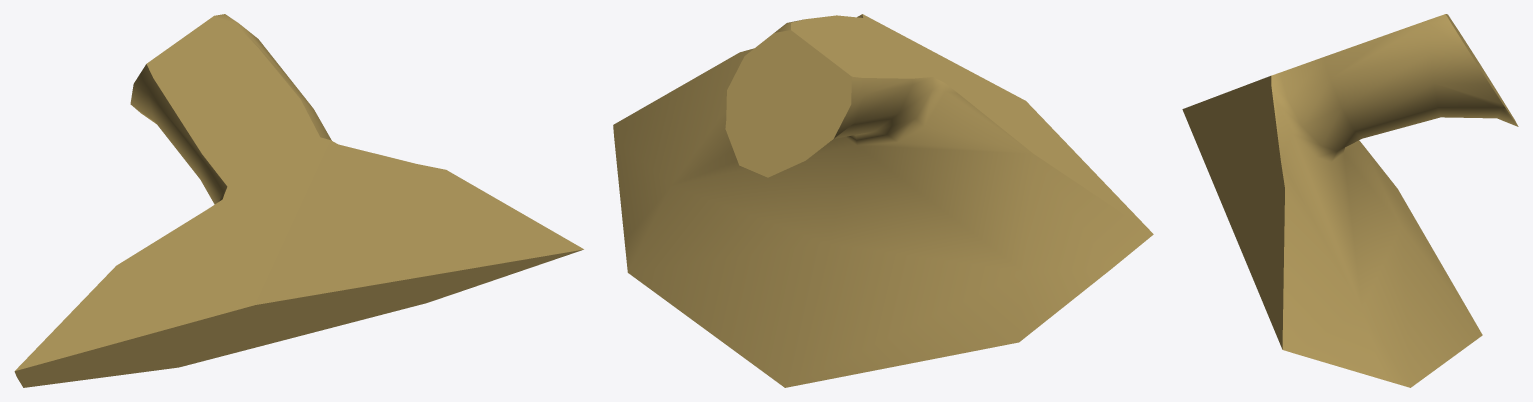
The model's file is broken_pot_cell.031.fbx.
The picture shows the model from 3 angles, left to right: view 1: azimuth 30°, elevation 25°; view 2: azimuth 150°, elevation 25°; view 3: azimuth 270°, elevation 25°; orthographic projection. The views are drawn at different scales.
Parts seen in each view (by area): view 1: broken_pot_cell.031; view 2: broken_pot_cell.031; view 3: broken_pot_cell.031.
Part boxes in pixels (bbox=[...]): broken_pot_cell.031: bbox=[14, 14, 583, 387]; broken_pot_cell.031: bbox=[613, 14, 1153, 387]; broken_pot_cell.031: bbox=[1182, 14, 1518, 387].
Size of the model in its own units: 0.7918 by 0.4459 by 0.4793.
